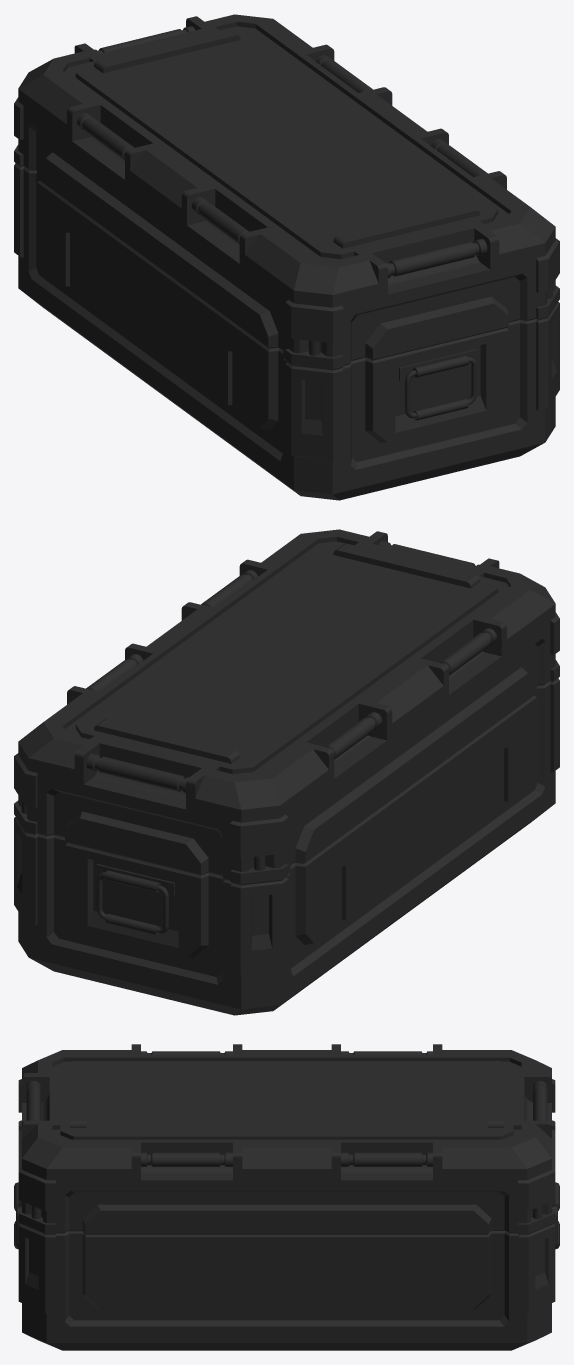
The model's file is weapon_box.FBX.
The picture shows the model from 3 angles, top to bottom: view 1: azimuth 30°, elevation 25°; view 2: azimuth 150°, elevation 25°; view 3: azimuth 270°, elevation 25°; orthographic projection. The views are drawn at different scales.
Visible parts, largest first — view 1: 1; view 2: 1; view 3: 1.
Boxes of the visible parts, bbox=[...] form: 1: bbox=[14, 14, 559, 500]; 1: bbox=[14, 529, 559, 1015]; 1: bbox=[14, 1044, 559, 1350].
Bounding box in the file's own units: 0.5131 × 0.4353 × 1.04.
